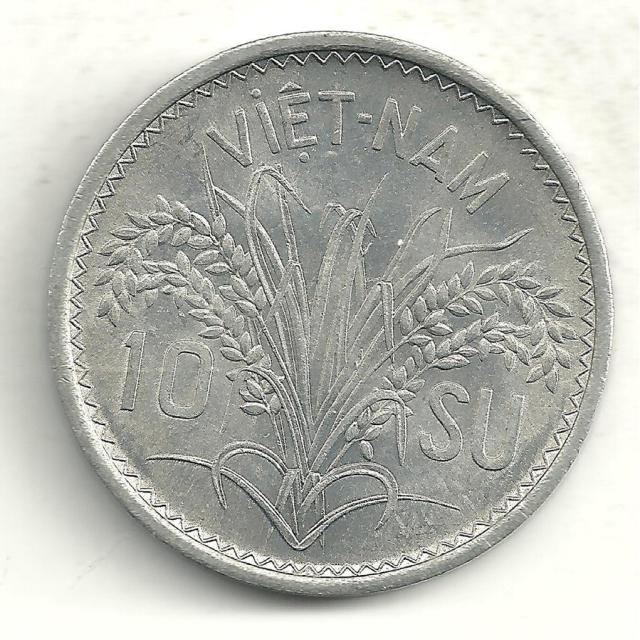Coin: (40, 26, 615, 603)
